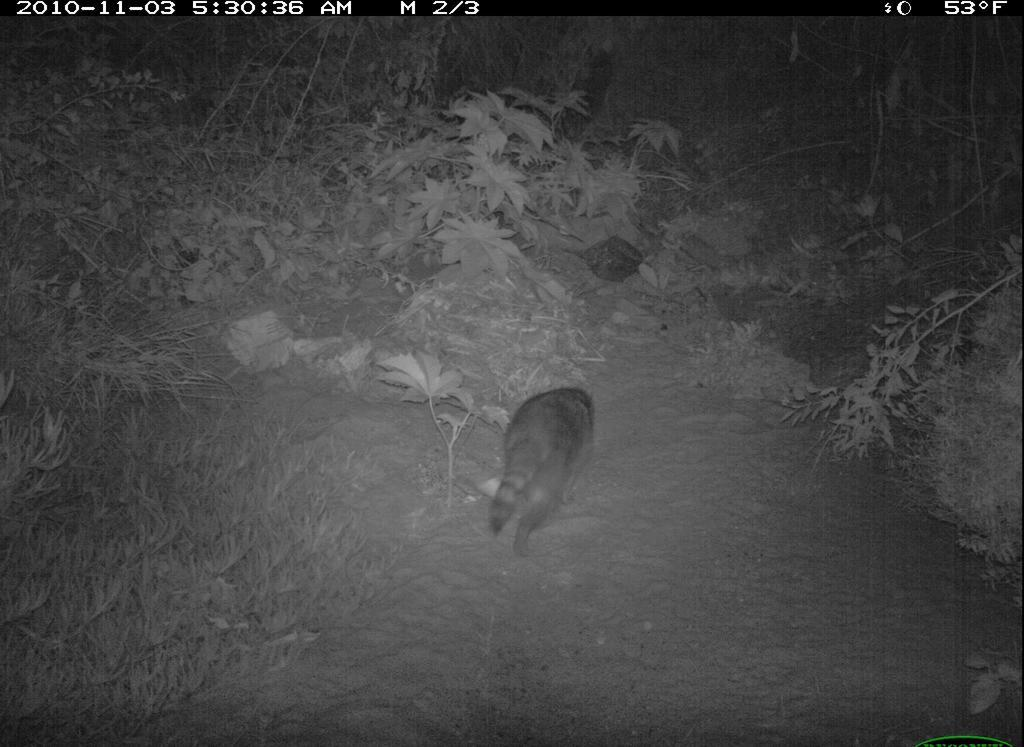raccoon: (476, 376, 609, 565)
